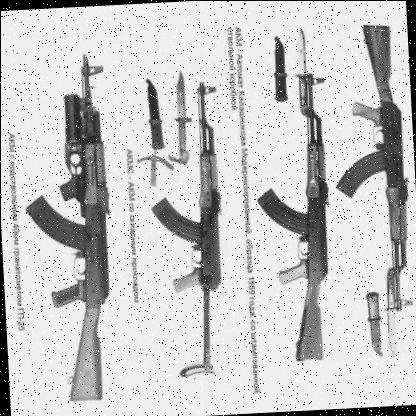rifle: (14, 48, 130, 405), (322, 19, 416, 345), (245, 63, 337, 371), (142, 78, 234, 380)
